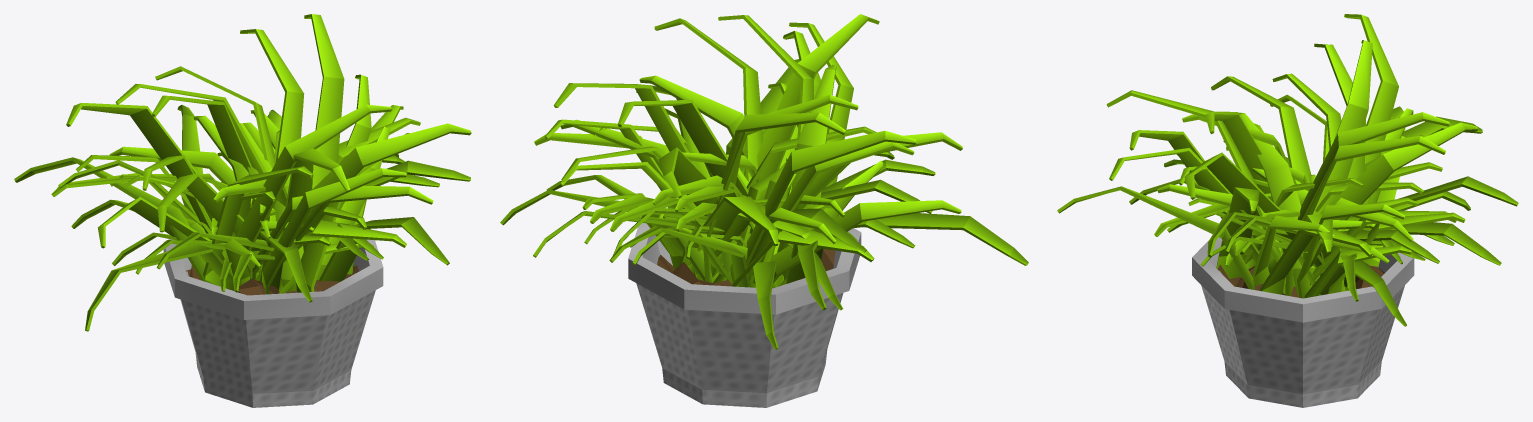
Rendered from variegatum.glb.
The picture shows the model from 3 angles, left to right: view 1: azimuth 30°, elevation 25°; view 2: azimuth 150°, elevation 25°; view 3: azimuth 270°, elevation 25°; orthographic projection. The views are drawn at different scales.
Visible parts, largest first — view 1: Leaves_0, Pot_1, Rocks_2; view 2: Leaves_0, Pot_1, Rocks_2; view 3: Leaves_0, Pot_1, Rocks_2.
Part boxes in pixels (<box>): Leaves_0: <box>14,14,471,331</box>; Pot_1: <box>163,239,383,407</box>; Rocks_2: <box>186,265,358,295</box>; Leaves_0: <box>500,14,1028,349</box>; Pot_1: <box>628,223,861,407</box>; Rocks_2: <box>657,248,835,286</box>; Leaves_0: <box>1057,14,1518,326</box>; Pot_1: <box>1192,237,1414,407</box>; Rocks_2: <box>1217,263,1384,297</box>.
Size of the model in its own units: 5.66 by 3.92 by 5.72.
Materials: 3 (2 with a texture image).
